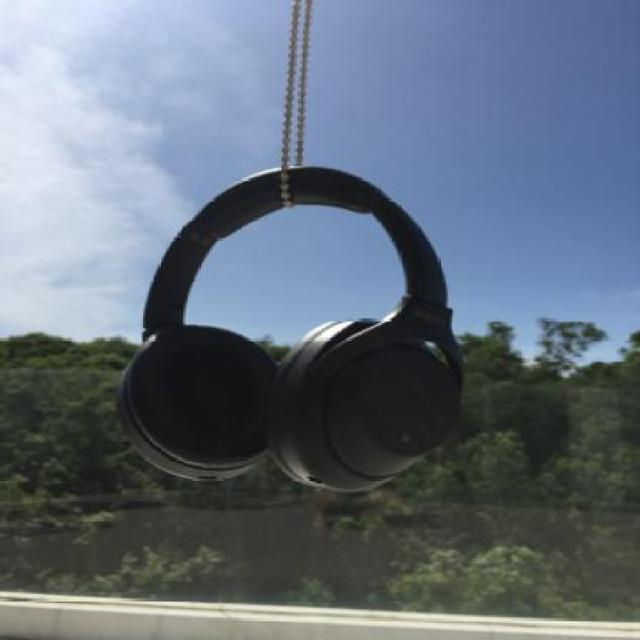earphone: (112, 140, 480, 498)
